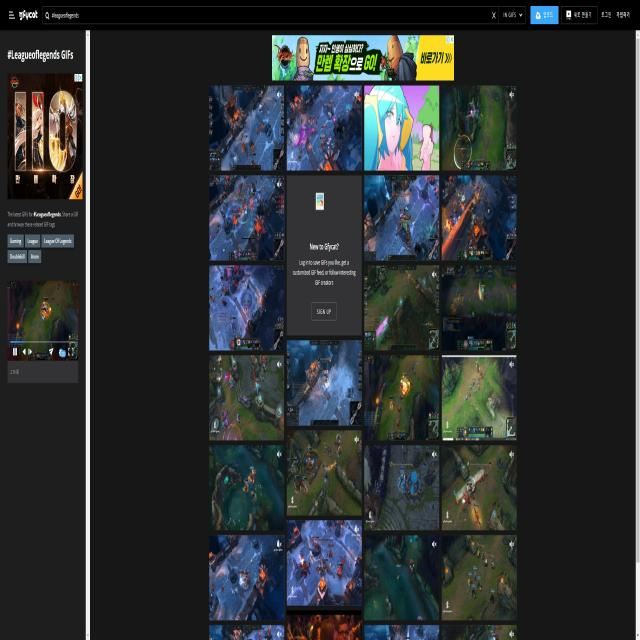menu-bar: (528, 4, 635, 23)
search: (43, 4, 527, 24)
